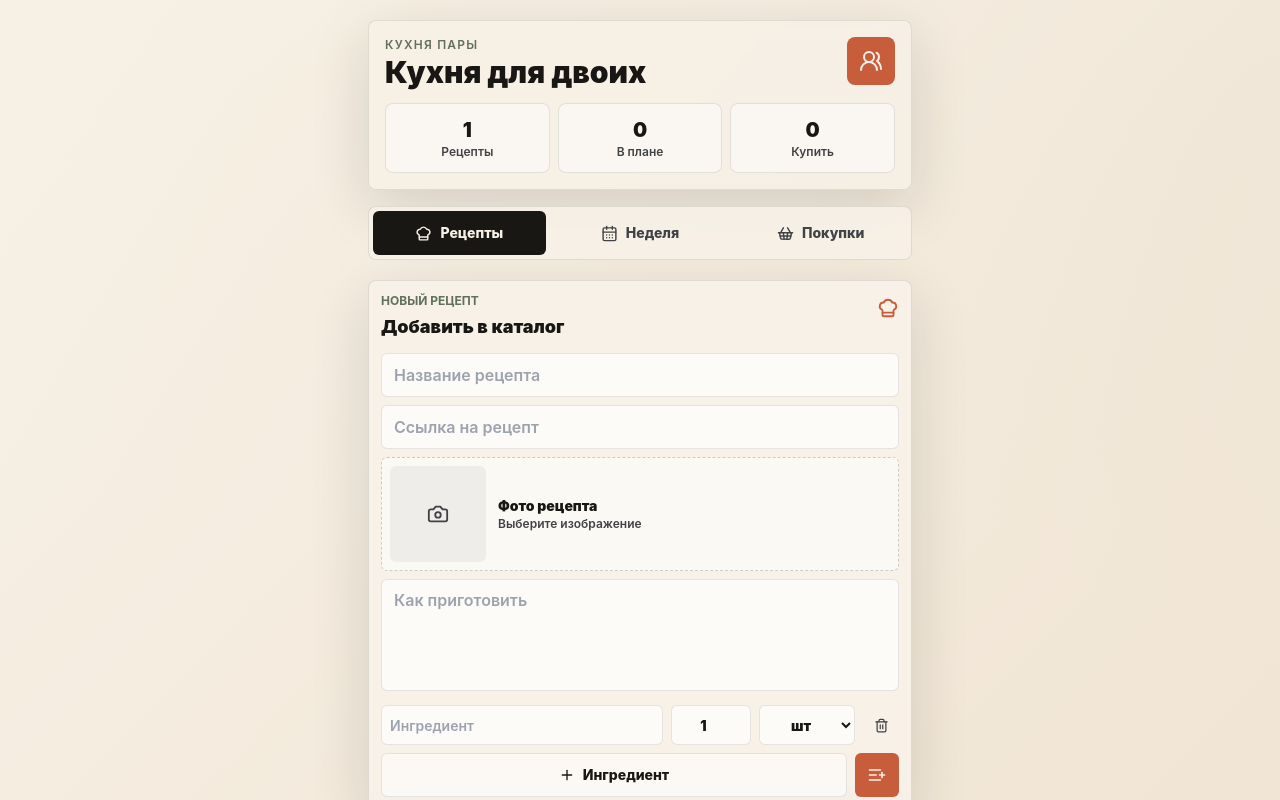
Test: MiniApp › optimistically adds authenticated meal plan items before the action resolves
Click the button "Неделя": {"x": 640, "y": 233} x1=554 y1=211 x2=726 y2=255
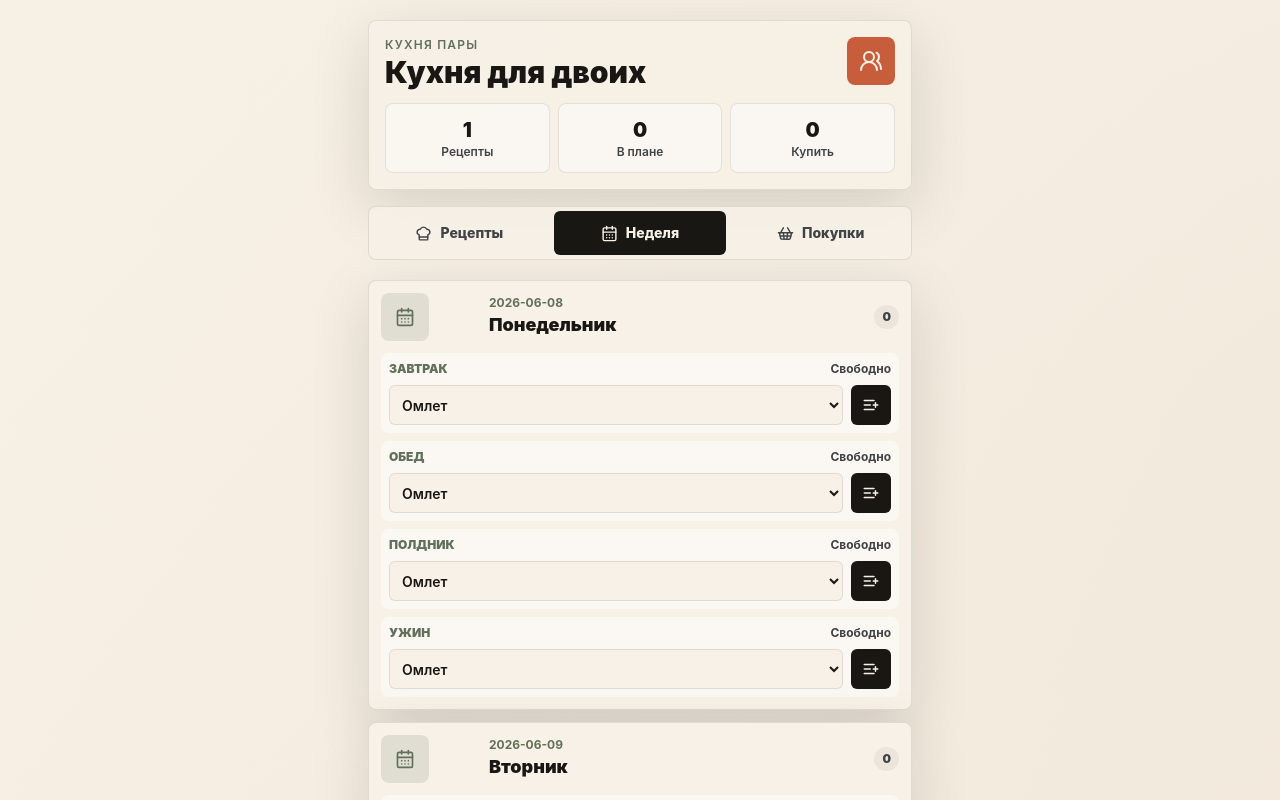
Click the button named "Добавить рецепт в завтрак": {"x": 871, "y": 405} x1=851 y1=385 x2=891 y2=425
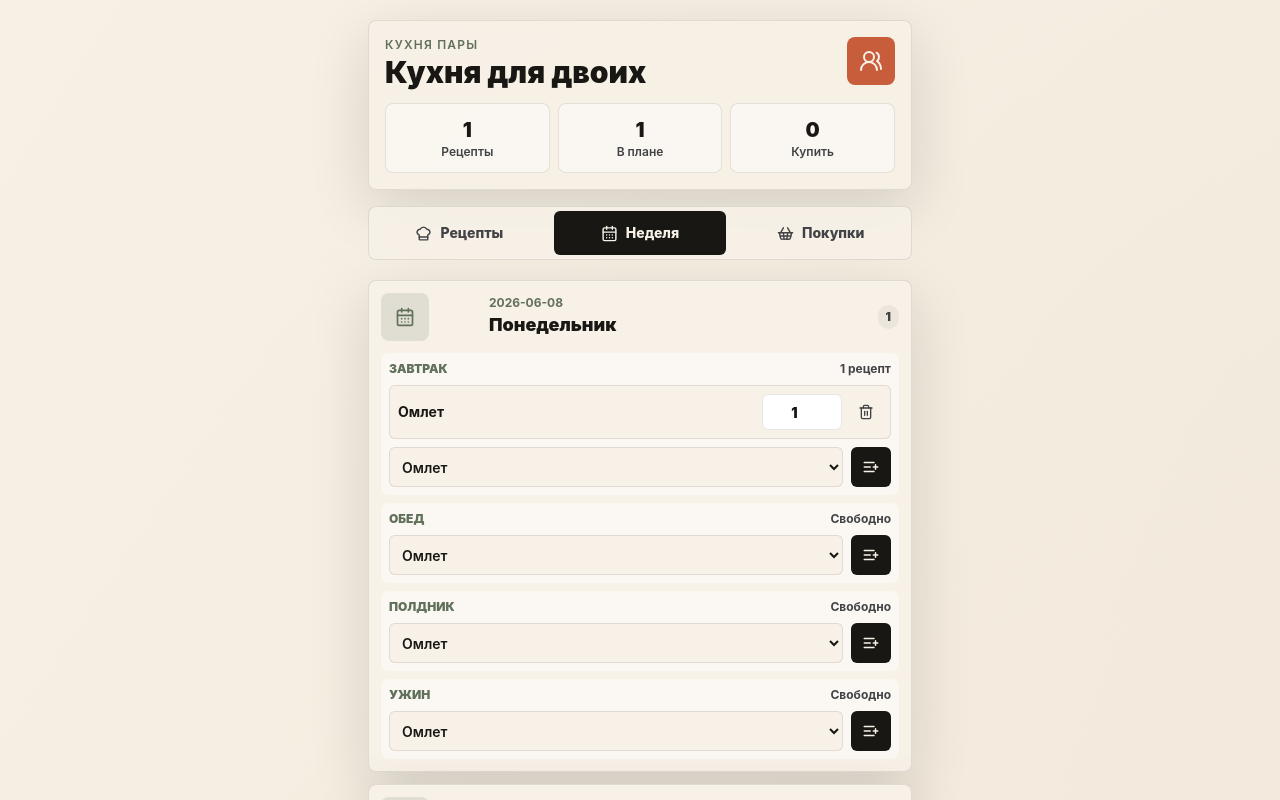
expect the number field named "Количество для Омлет" holds "1": met, box x1=762 y1=394 x2=842 y2=430
